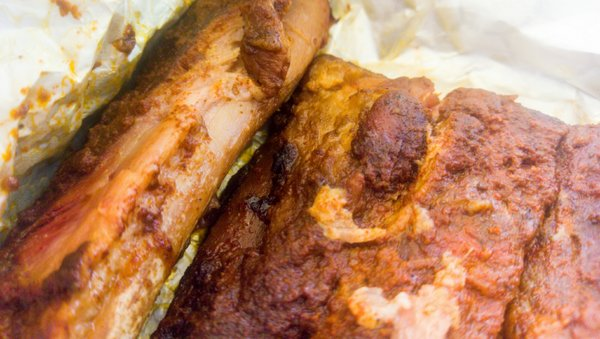sandwich: (166, 54, 598, 335)
